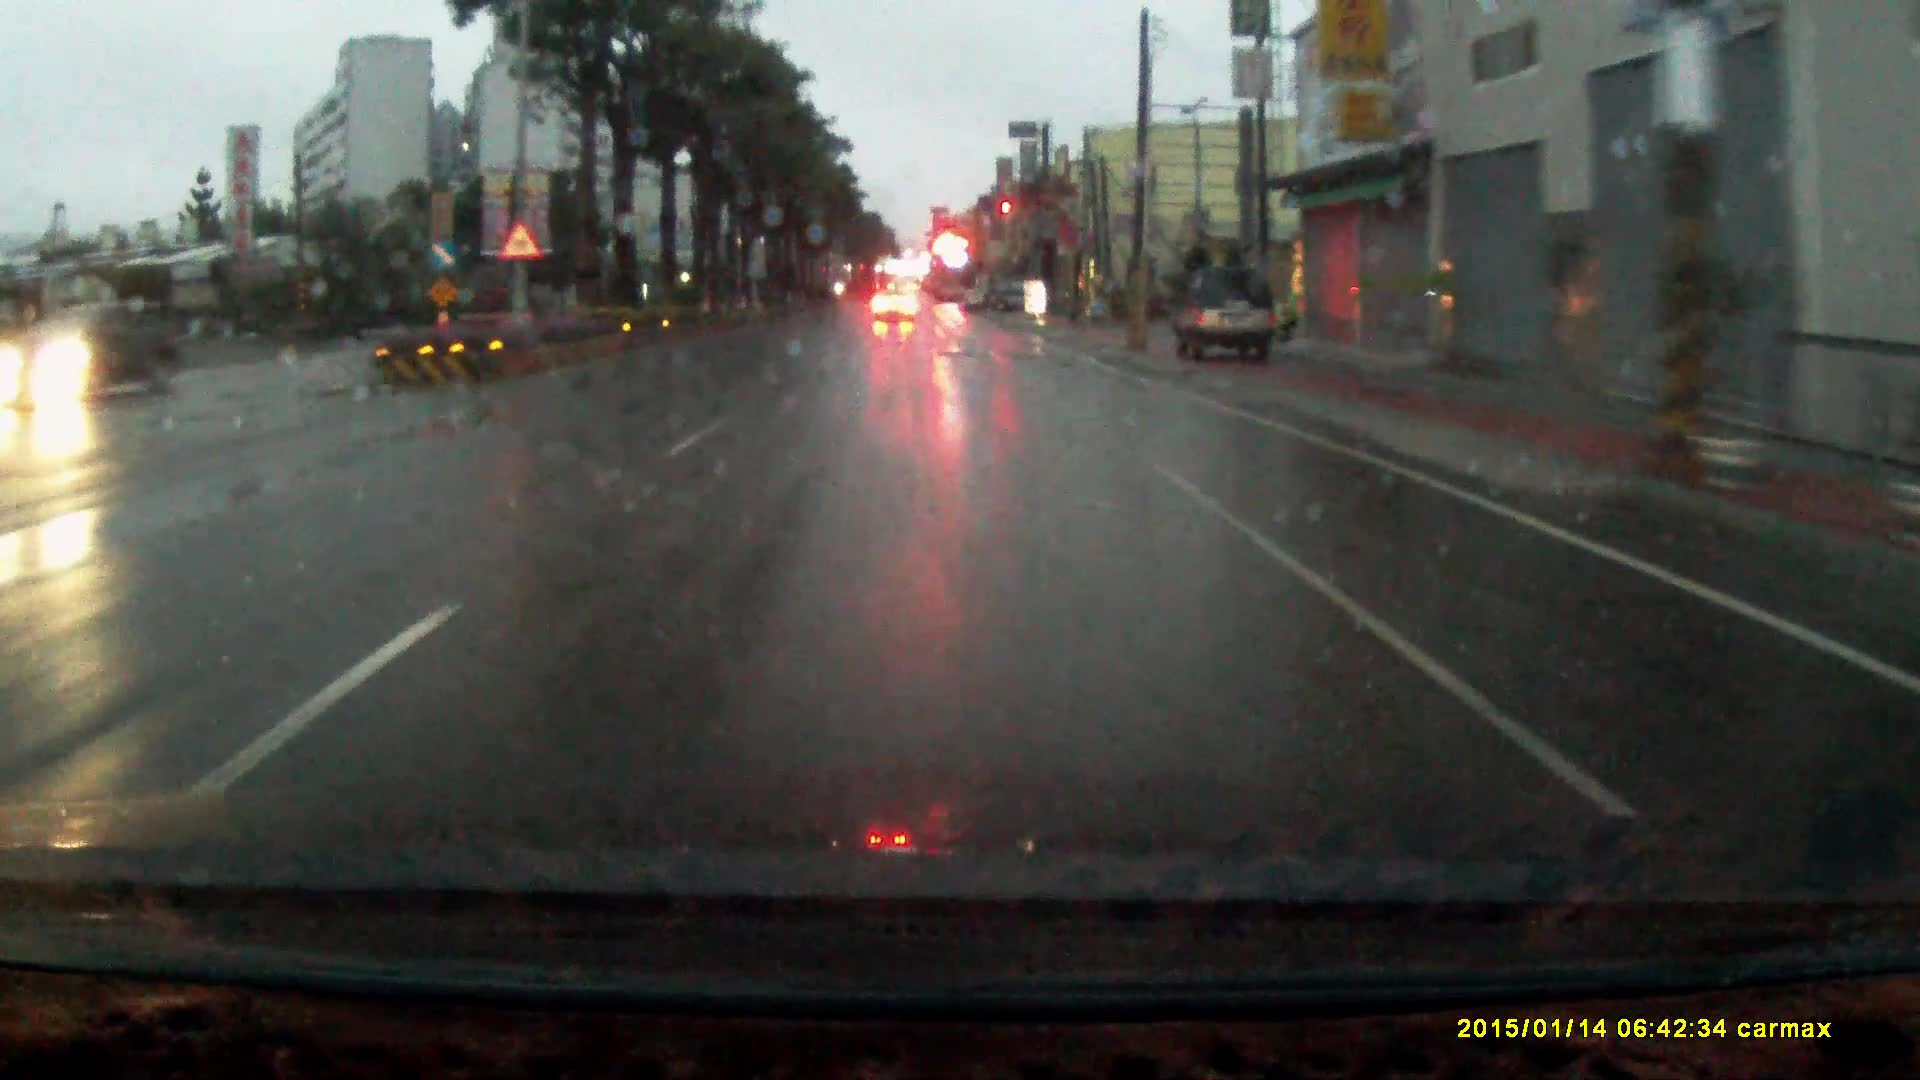vehicle: (1, 302, 175, 413), (1170, 260, 1283, 364), (872, 293, 916, 330)
